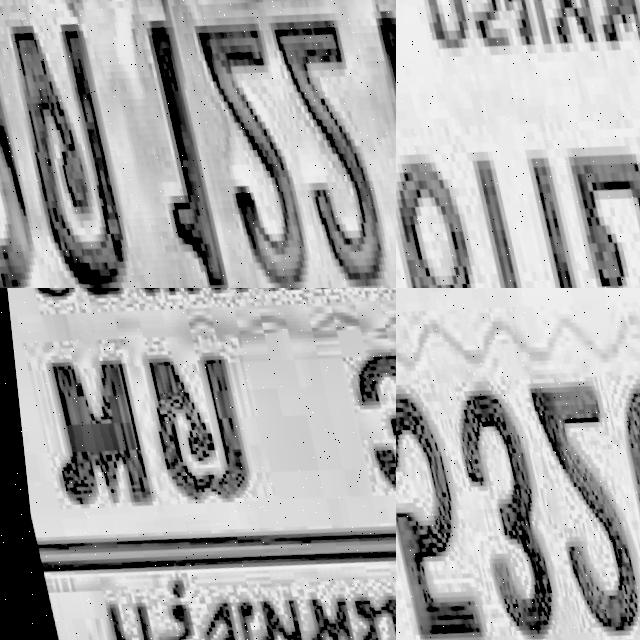license-plate: (0, 288, 396, 598), (0, 0, 396, 288), (396, 288, 640, 640), (396, 0, 640, 288), (26, 486, 396, 640)
